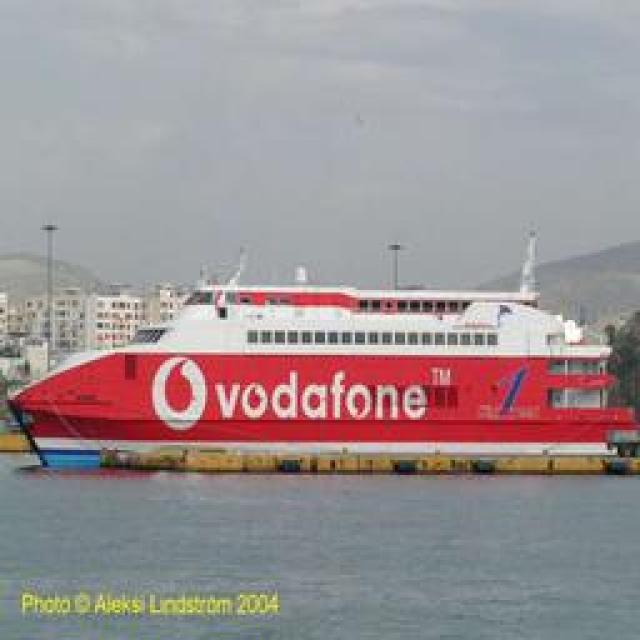CIV_Ship: (14, 238, 634, 464)
